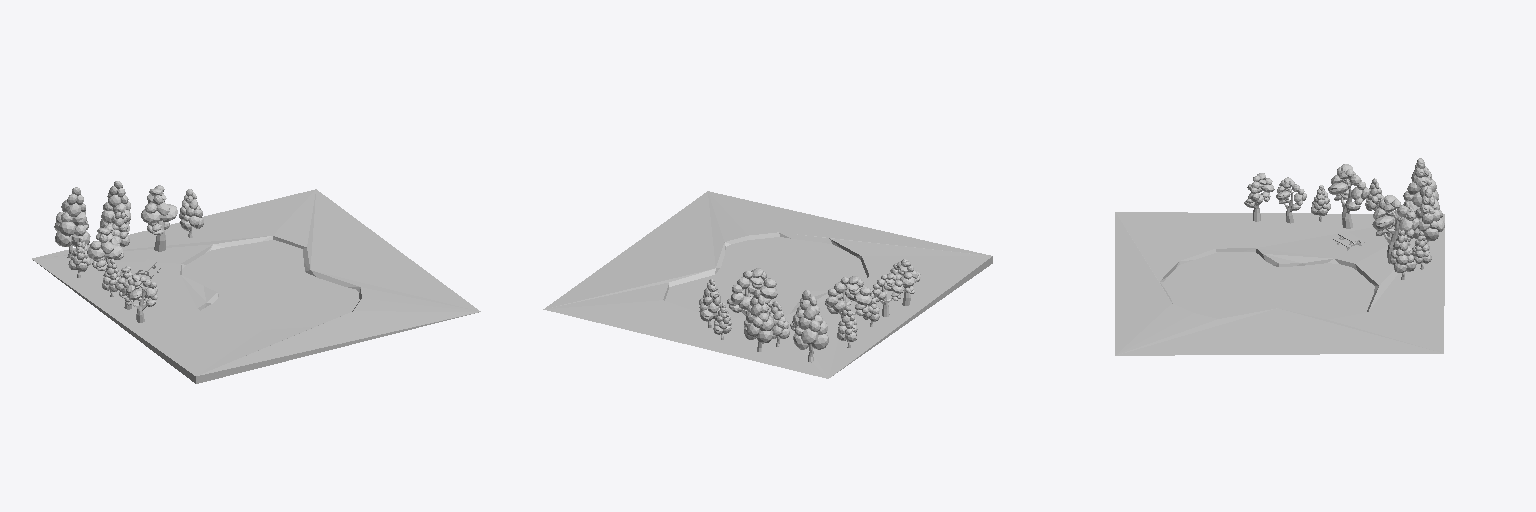
The model's file is Lightweight.obj.
3 renders of one model, left to right at view 1: azimuth 30°, elevation 25°; view 2: azimuth 150°, elevation 25°; view 3: azimuth 270°, elevation 25°, orthographic.
Visible parts, largest first — view 1: Ground_Grid, Water_Grid.001, Poplar_Cylinder.006_Poplar_Cylinder.007, Oak_Cylinder.002, Oak_Cylinder.001, Oak_Cylinder.000, Poplar_Cylinder.005_Poplar_Cylinder.006, Poplar_Cylinder.001; view 2: Ground_Grid, Water_Grid.001, Poplar_Cylinder.006_Poplar_Cylinder.007, Oak_Cylinder.002, Oak_Cylinder.001, Poplar_Cylinder.005_Poplar_Cylinder.006, Oak_Cylinder.004, Oak_Cylinder.000, Poplar_Cylinder.001, Poplar_Cylinder.004, Poplar_Cylinder.003; view 3: Ground_Grid, Water_Grid.001, Oak_Cylinder.002, Oak_Cylinder.001, Poplar_Cylinder.005_Poplar_Cylinder.006, Poplar_Cylinder.006_Poplar_Cylinder.007, Poplar_Cylinder.001, Oak_Cylinder.000, Oak_Cylinder.004.
Part boxes in pixels (bbox=[...]): Ground_Grid: bbox=[32, 189, 480, 383]; Water_Grid.001: bbox=[182, 240, 359, 329]; Poplar_Cylinder.006_Poplar_Cylinder.007: bbox=[54, 187, 90, 258]; Oak_Cylinder.002: bbox=[141, 185, 177, 251]; Oak_Cylinder.001: bbox=[87, 225, 123, 271]; Oak_Cylinder.000: bbox=[122, 274, 157, 322]; Poplar_Cylinder.005_Poplar_Cylinder.006: bbox=[100, 181, 130, 230]; Poplar_Cylinder.001: bbox=[179, 189, 203, 237]; Ground_Grid: bbox=[543, 191, 992, 378]; Water_Grid.001: bbox=[665, 237, 866, 317]; Poplar_Cylinder.006_Poplar_Cylinder.007: bbox=[793, 290, 828, 362]; Oak_Cylinder.002: bbox=[727, 268, 777, 315]; Oak_Cylinder.001: bbox=[825, 276, 871, 315]; Poplar_Cylinder.005_Poplar_Cylinder.006: bbox=[744, 289, 773, 351]; Oak_Cylinder.004: bbox=[872, 273, 903, 316]; Oak_Cylinder.000: bbox=[890, 259, 920, 305]; Poplar_Cylinder.001: bbox=[699, 279, 721, 327]; Poplar_Cylinder.004: bbox=[837, 306, 857, 347]; Poplar_Cylinder.003: bbox=[769, 301, 789, 346]; Ground_Grid: bbox=[1115, 212, 1444, 355]; Water_Grid.001: bbox=[1163, 252, 1374, 319]; Oak_Cylinder.002: bbox=[1372, 195, 1419, 263]; Oak_Cylinder.001: bbox=[1328, 164, 1369, 228]; Poplar_Cylinder.005_Poplar_Cylinder.006: bbox=[1412, 188, 1444, 249]; Poplar_Cylinder.006_Poplar_Cylinder.007: bbox=[1403, 158, 1438, 212]; Poplar_Cylinder.001: bbox=[1389, 230, 1416, 279]; Oak_Cylinder.000: bbox=[1244, 173, 1274, 221]; Oak_Cylinder.004: bbox=[1276, 177, 1306, 223].
Size of the model in its own units: 60 by 17.71 by 60.06.